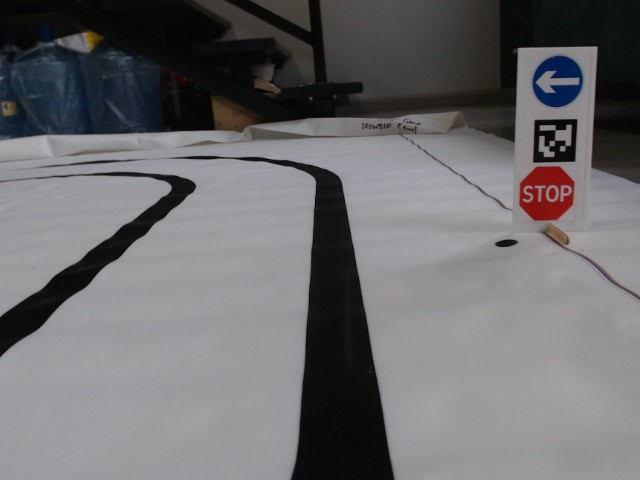Stop: (519, 164, 576, 223)
